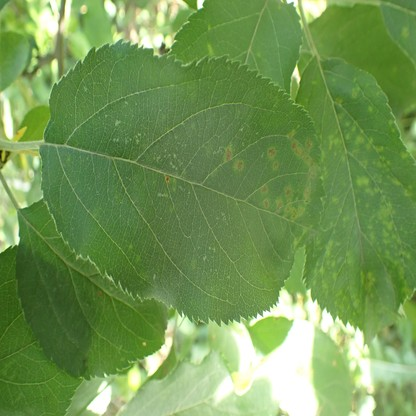frogeye_leaf_spot: (97, 290, 102, 295)
scab: (314, 78, 412, 327), (198, 246, 229, 278), (291, 143, 319, 171), (303, 173, 314, 206), (284, 205, 303, 220), (224, 146, 233, 165), (216, 212, 228, 225), (234, 160, 244, 173), (207, 41, 215, 56), (401, 26, 410, 38), (267, 149, 276, 160), (284, 186, 292, 198), (304, 138, 311, 151), (275, 199, 283, 210), (263, 199, 270, 211), (288, 128, 295, 139), (273, 160, 279, 171), (186, 191, 190, 204), (261, 186, 267, 194), (165, 175, 169, 182), (126, 176, 131, 181), (157, 192, 163, 196), (179, 185, 183, 190), (153, 274, 155, 280), (113, 173, 116, 176)
